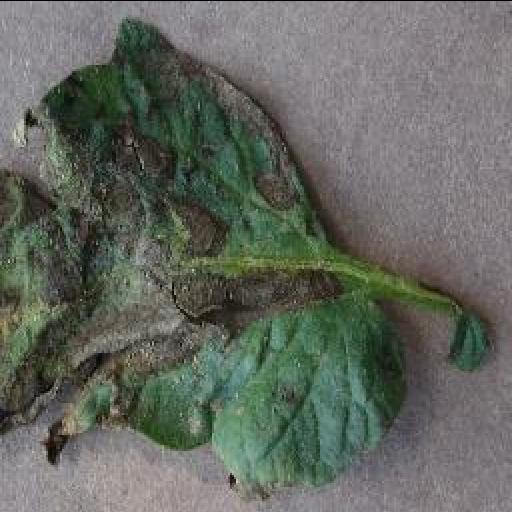disease_tomato: (0, 20, 416, 490)
